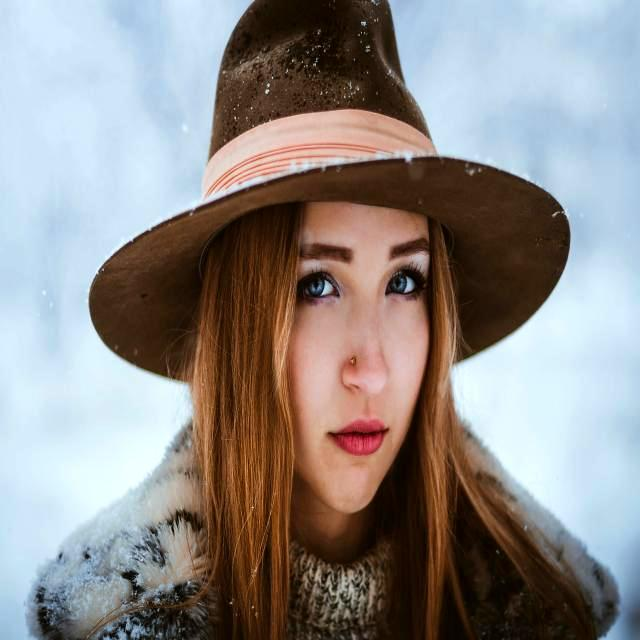no_hard_hat: (89, 0, 570, 379)
person: (28, 203, 619, 640)
